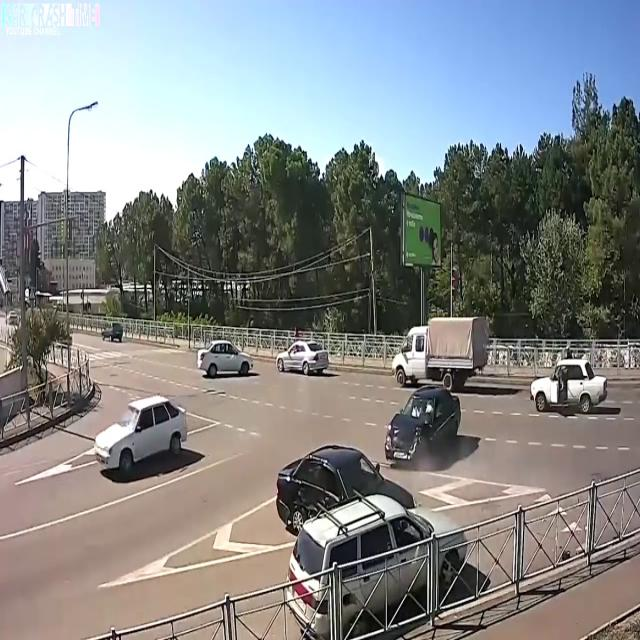Accident: (279, 383, 477, 548)
